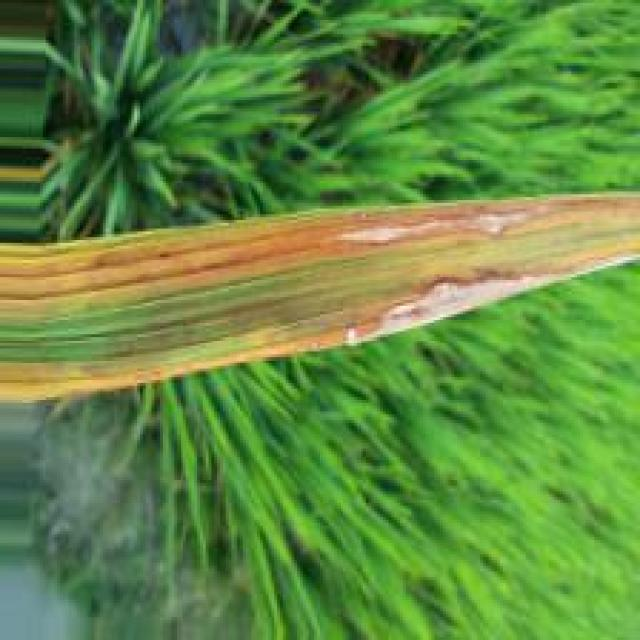Bacterial_Leaf_Blight: (0, 185, 640, 399)
